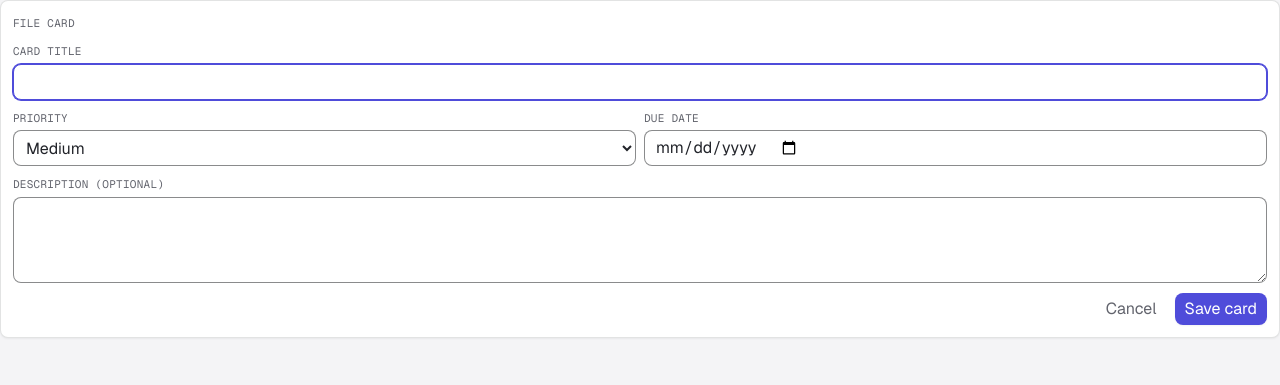
CardForm › shows error message and focuses input when submitting an empty title
Click the button "Save card". click: (1221, 308)
box: [1174,292,1267,324]
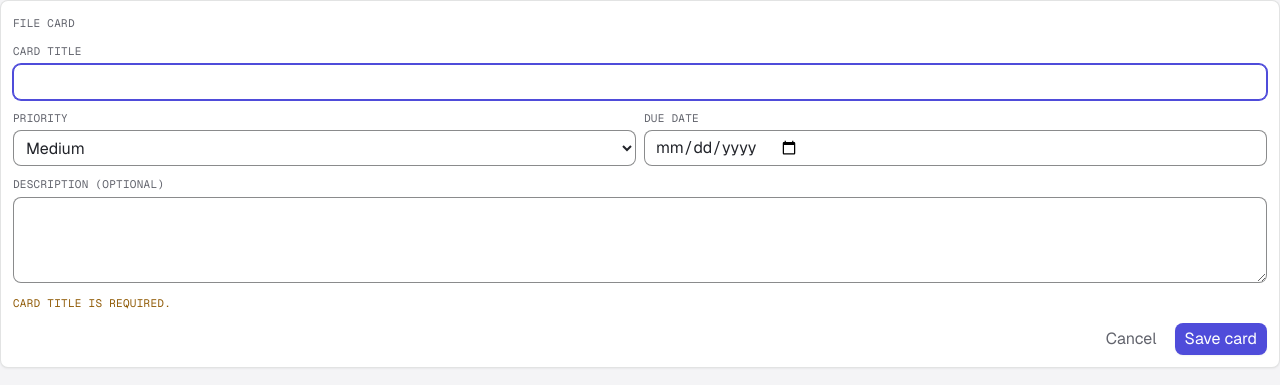
expect the message shows "Card title is required": met, box [13,296,171,310]
